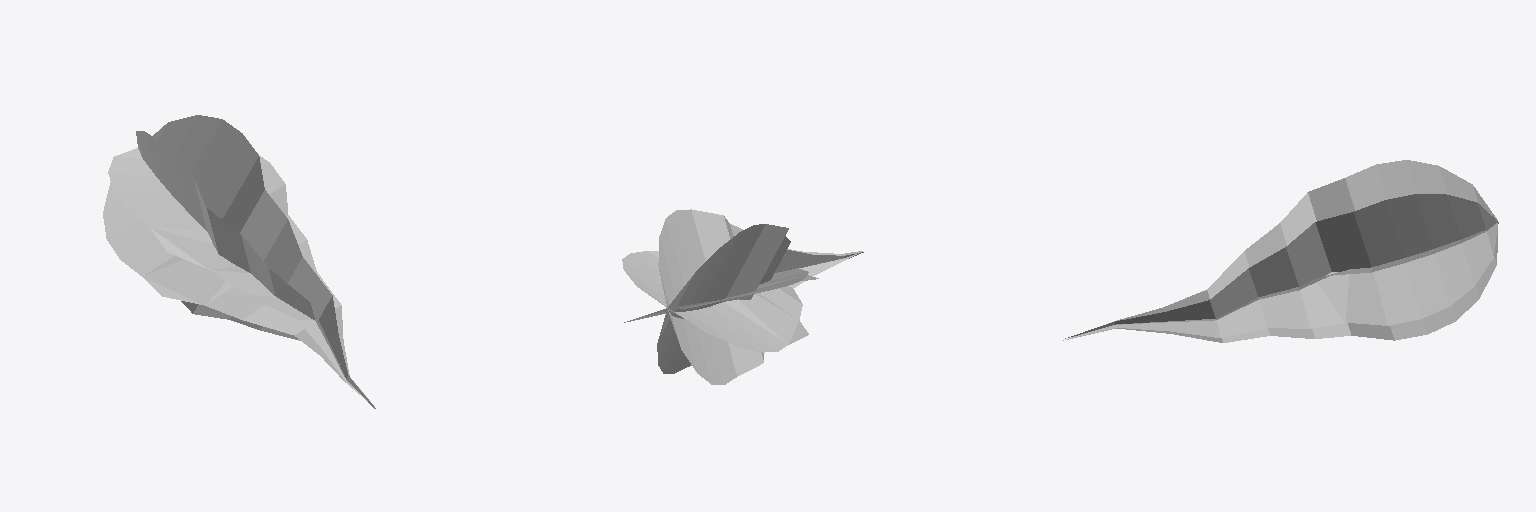
Rendered from Flame1t.obj.
The picture shows the model from 3 angles: view 1: azimuth 30°, elevation 25°; view 2: azimuth 150°, elevation 25°; view 3: azimuth 270°, elevation 25°; orthographic projection.
Parts seen in each view (by area): view 1: Flame1t_BezierCurve.010; view 2: Flame1t_BezierCurve.010; view 3: Flame1t_BezierCurve.010.
Boxes of the visible parts, x1=… form: Flame1t_BezierCurve.010: x1=103, y1=115, x2=375, y2=408; Flame1t_BezierCurve.010: x1=622, y1=209, x2=863, y2=384; Flame1t_BezierCurve.010: x1=1063, y1=160, x2=1498, y2=342.
Size of the model in its own units: 0.035 by 0.0348 by 0.0873.